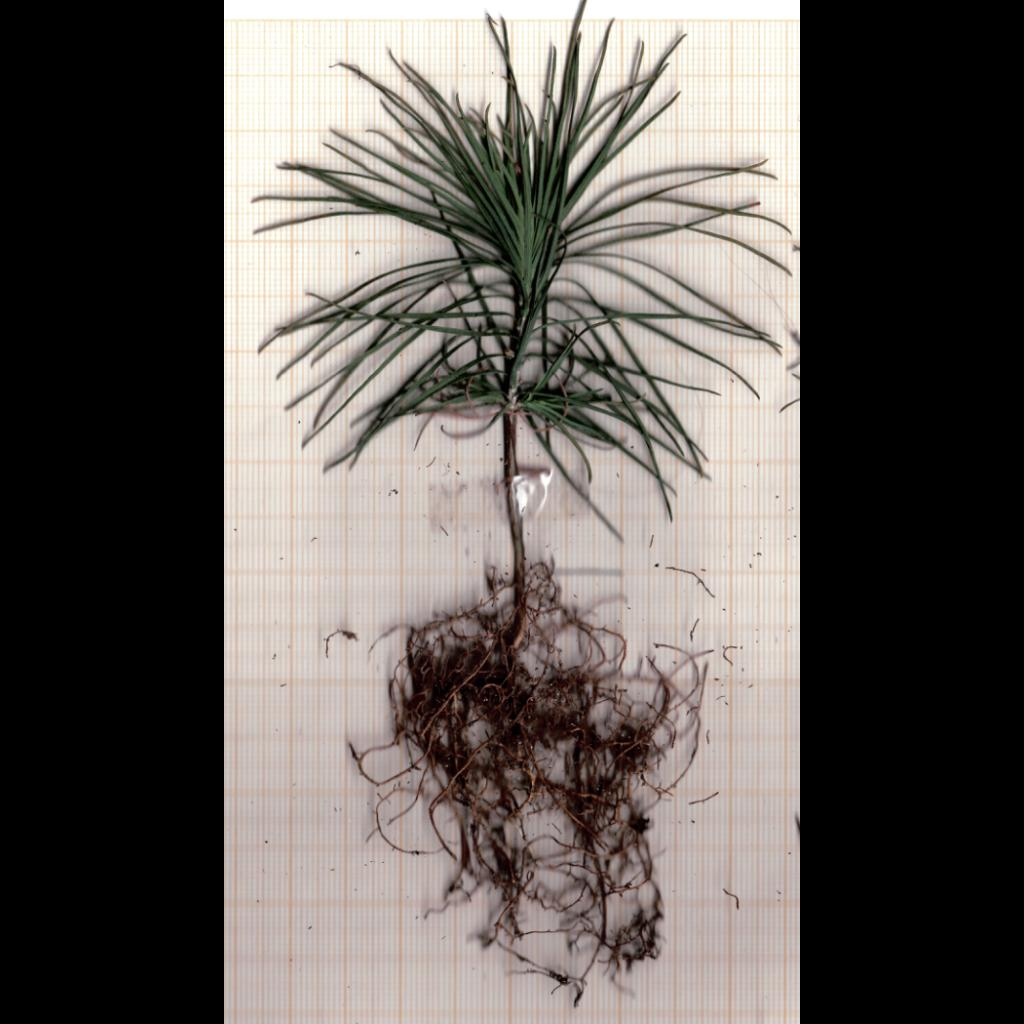flowerCedr: (263, 0, 787, 516)
rootCedr: (351, 563, 705, 1005)
stemCedr: (504, 413, 524, 606)
